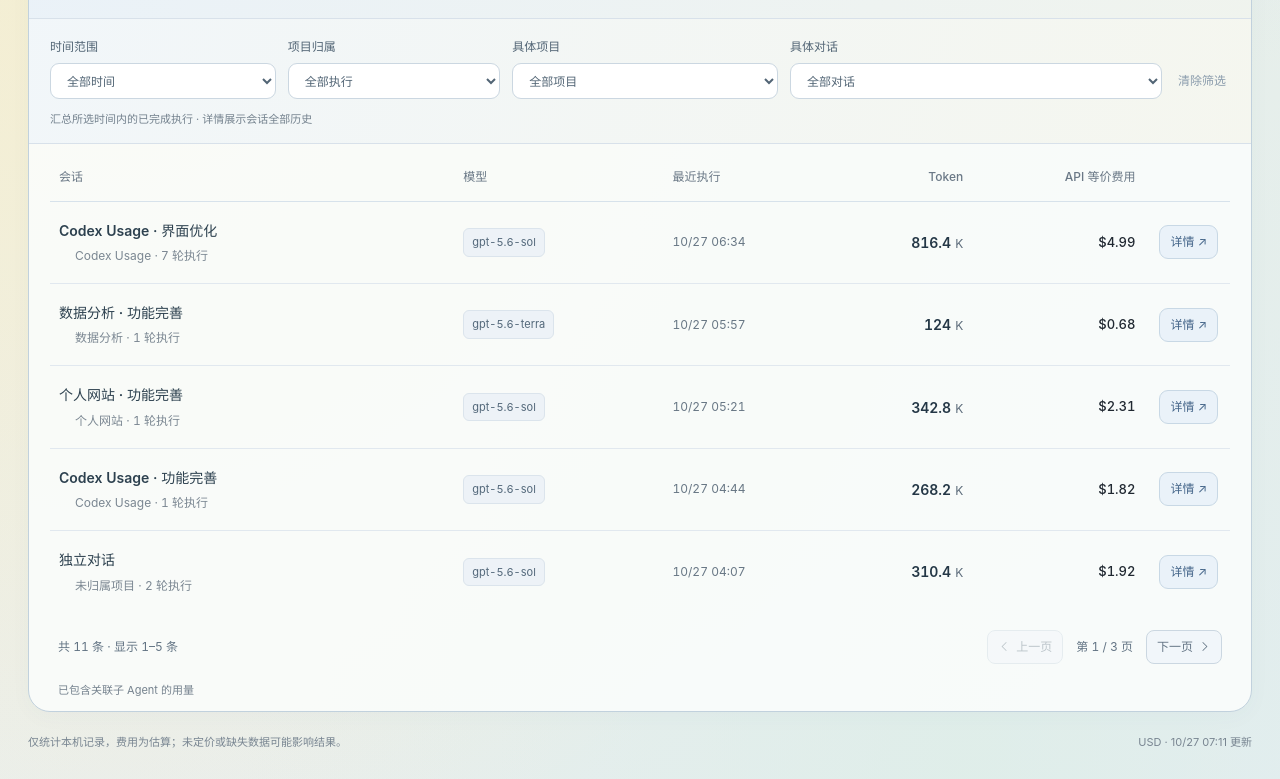
conversation-level usage dashboard › paginates conversations in groups of five rather than executions
(page scrolled)
Check: the number of rows with class "du-session-row" is 5, box [50,201,1230,284]; [50,284,1230,366]; [50,366,1230,448]; [50,448,1230,531]; [50,531,1230,613]
Click the button with aria-label "下一页会话明细": (1184, 647) [1146,630,1222,664]
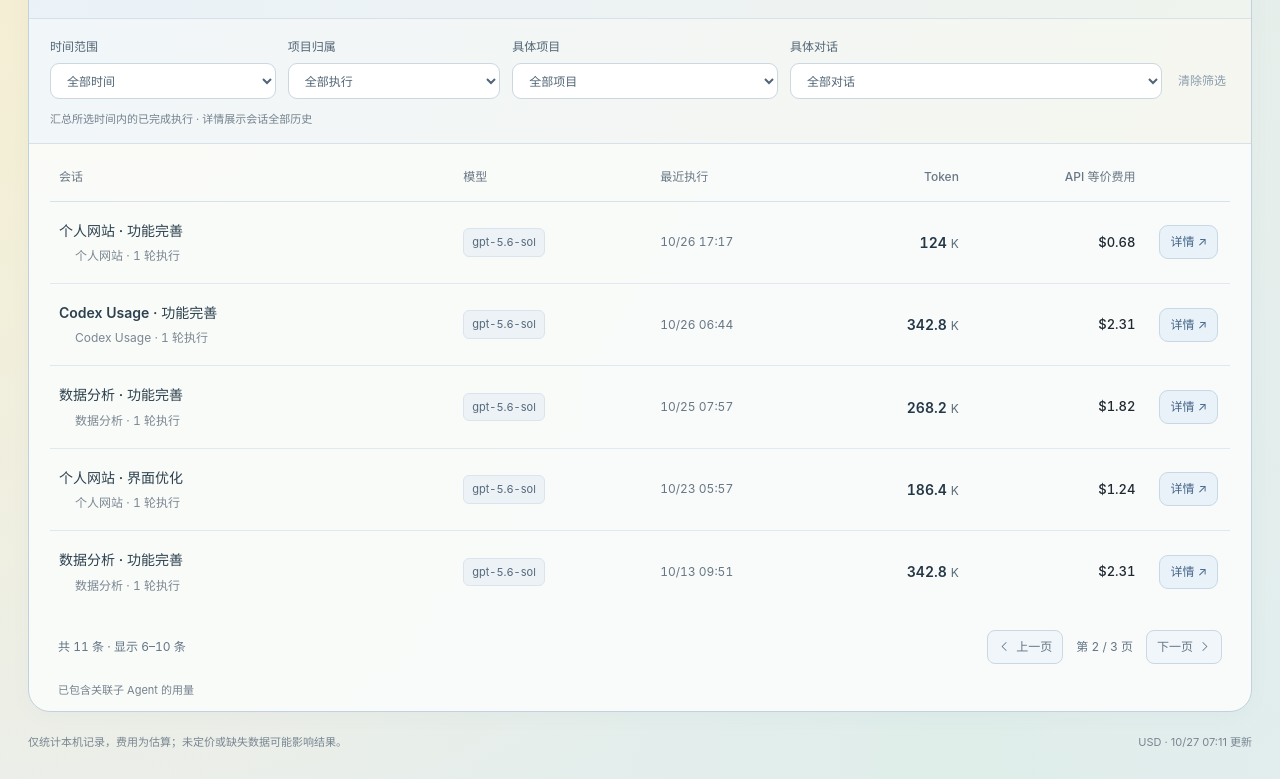
Check: the number of rows with class "du-session-row" is 5, box [50,201,1230,284]; [50,284,1230,366]; [50,366,1230,448]; [50,448,1230,531]; [50,531,1230,613]
Check: the text "第 2 / 3 页" is shown, box [1076,638,1133,656]
Click the button with aria-label "下一页会话明细": (1184, 647) [1146,630,1222,664]
(page scrolled)
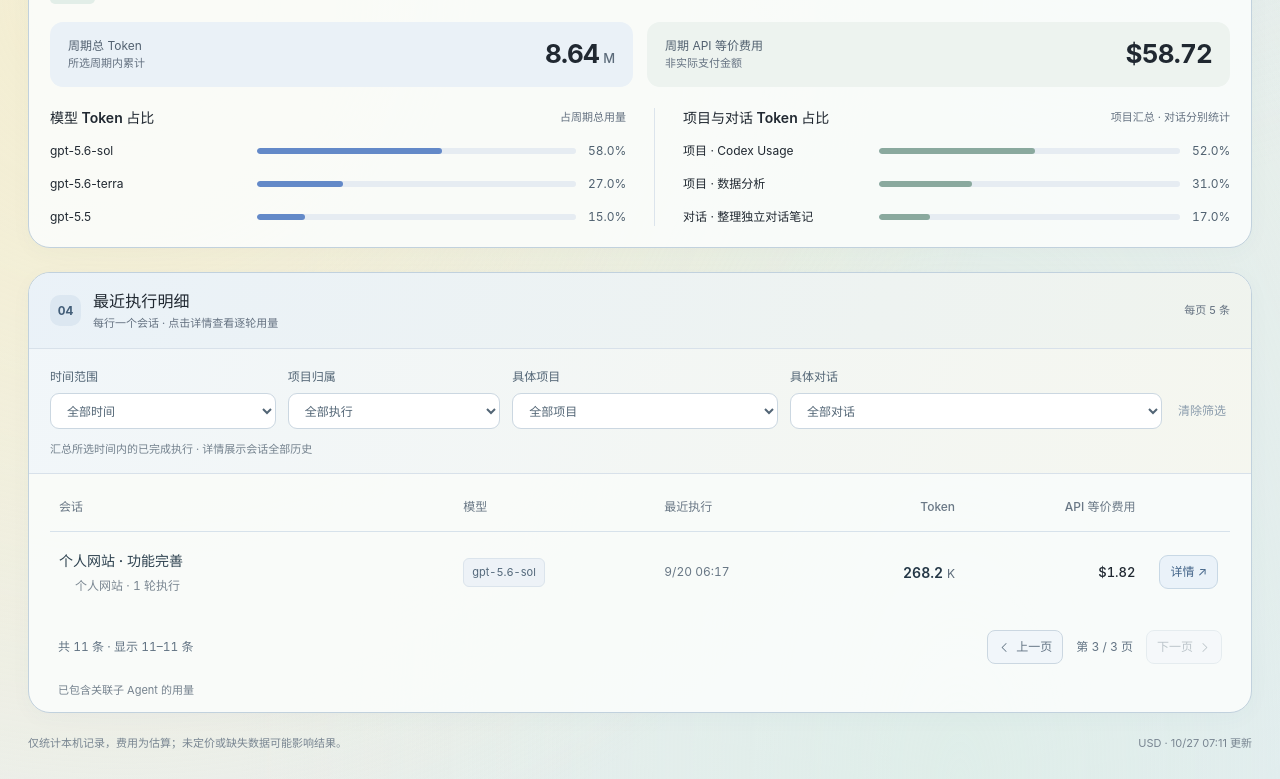
Check: the text "第 3 / 3 页" is shown, box [1076,638,1133,656]
Check: the number of rows with class "du-session-row" is 1, box [50,531,1230,613]
Check: the button with aria-label "下一页会话明细" is disabled, box [1146,630,1222,664]
